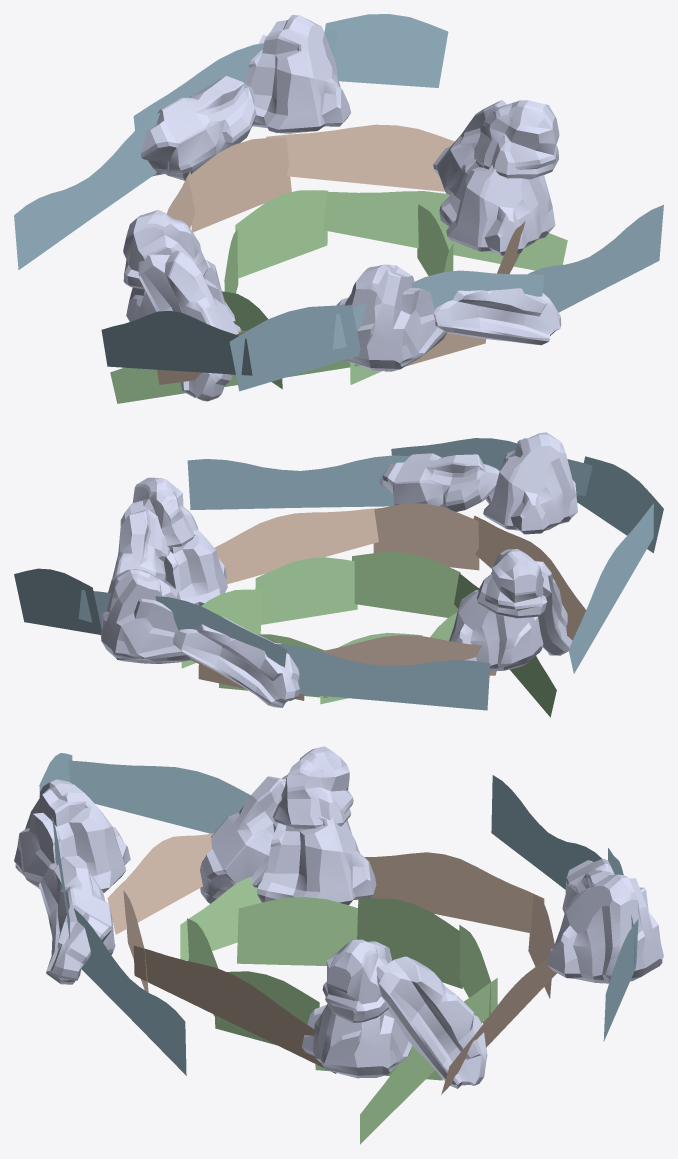
Rendered from cp_process_mesh_skybox.fbx.
3 views of the same model, one above another, from view 1: azimuth 30°, elevation 25°; view 2: azimuth 150°, elevation 25°; view 3: azimuth 270°, elevation 25° (orthographic). The views are drawn at different scales.
Parts seen in each view (by area): view 1: skyboxMesh; view 2: skyboxMesh; view 3: skyboxMesh.
Boxes of the visible parts, box(x1,y1,x2,y2) form: skyboxMesh: box(14, 14, 663, 403); skyboxMesh: box(14, 432, 663, 717); skyboxMesh: box(14, 746, 663, 1144).
Size of the model in its own units: 34798 by 13179 by 38646.
